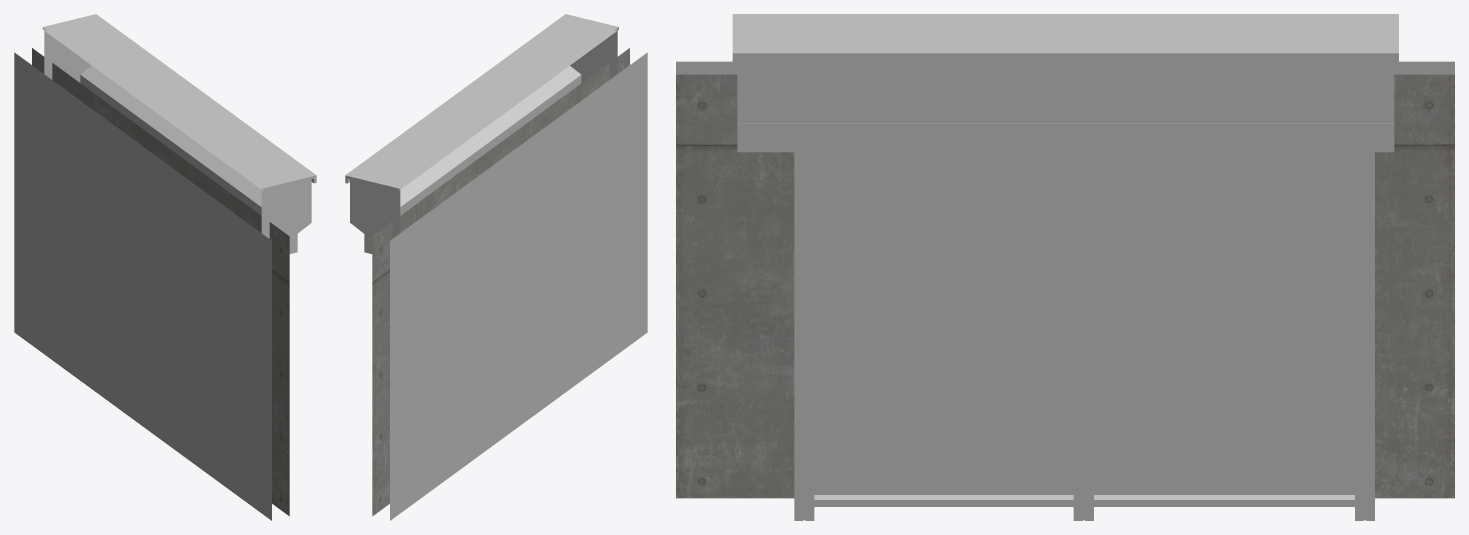
The model's file is AE_Wall_Roller_Shutter_05.fbx.
3 renders of one model, left to right at view 1: azimuth 30°, elevation 25°; view 2: azimuth 150°, elevation 25°; view 3: azimuth 270°, elevation 25°, orthographic. The views are drawn at different scales.
Visible parts, largest first — view 1: AE_Wall_Roller_Shutter_05; view 2: AE_Wall_Roller_Shutter_05; view 3: AE_Wall_Roller_Shutter_05.
Part boxes in pixels (left/top/right/bottom): AE_Wall_Roller_Shutter_05: left=14, top=14, right=316, bottom=520; AE_Wall_Roller_Shutter_05: left=345, top=14, right=647, bottom=520; AE_Wall_Roller_Shutter_05: left=676, top=14, right=1454, bottom=520.
Size of the model in its own units: 71.08 by 351 by 500.
